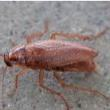cockroach: (3, 37, 98, 75)
